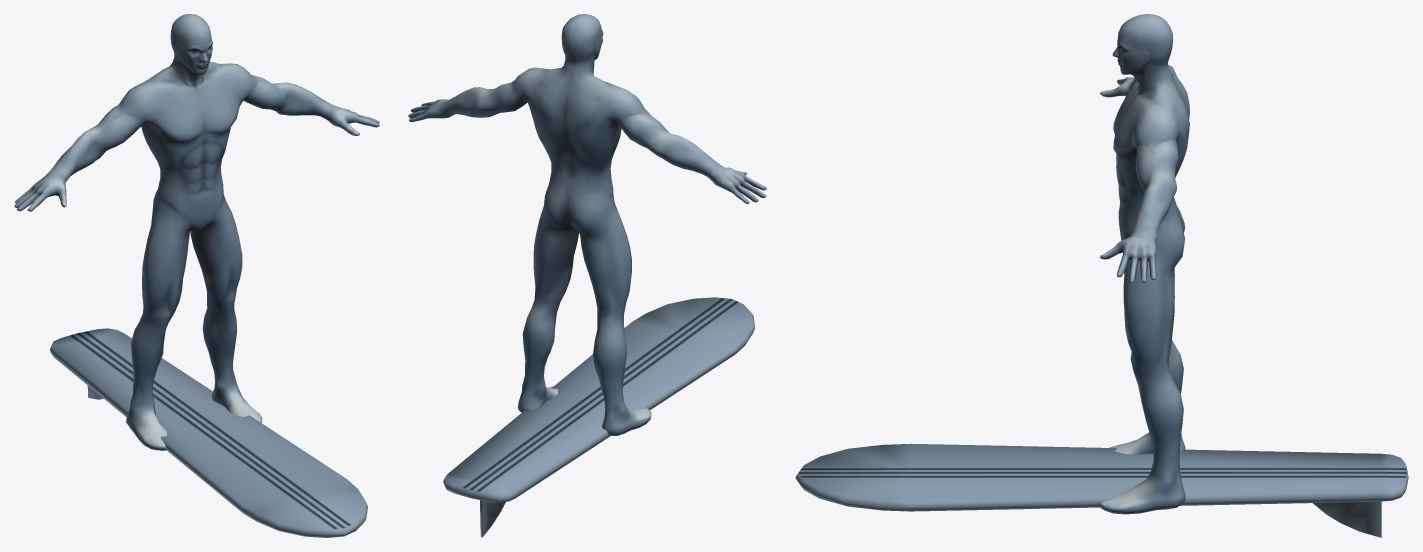
Rendered from Silver_Surfer.obj.
3 renders of one model, left to right at view 1: azimuth 30°, elevation 25°; view 2: azimuth 150°, elevation 25°; view 3: azimuth 270°, elevation 25°, orthographic. The views are drawn at different scales.
Size of the model in its own units: 3.44 by 4.15 by 4.43.
1 material, 1 textured.
